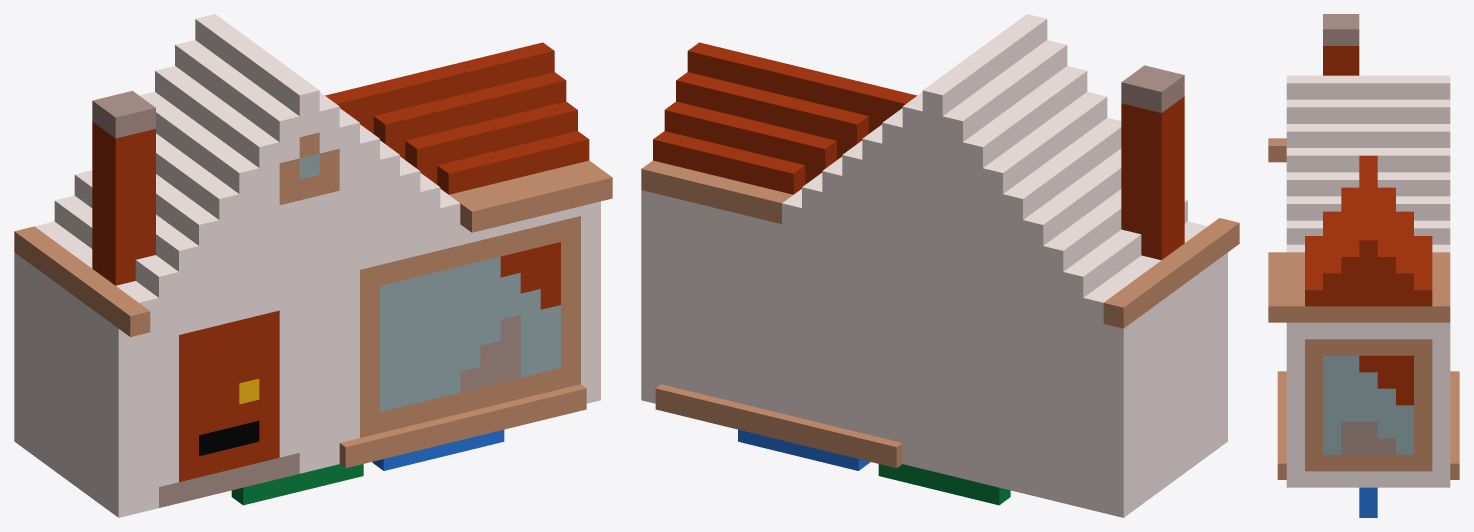
The model's file is house.glb.
3 renders of one model, left to right at view 1: azimuth 30°, elevation 25°; view 2: azimuth 150°, elevation 25°; view 3: azimuth 270°, elevation 25°, orthographic. The views are drawn at different scales.
Parts seen in each view (by area): view 1: base, front, e1, glasses, e1 (1); view 2: base, e1, front, glasses, e1 (1); view 3: base, front, e1, glasses, e1 (1).
Part boxes in pixels (left/top/right/bottom): base: left=14, top=14, right=600, bottom=517; front: left=14, top=160, right=612, bottom=336; e1: left=339, top=384, right=586, bottom=468; glasses: left=231, top=429, right=504, bottom=505; e1 (1): left=342, top=390, right=565, bottom=467; base: left=641, top=14, right=1227, bottom=517; e1: left=655, top=384, right=902, bottom=468; front: left=662, top=169, right=1239, bottom=328; glasses: left=738, top=429, right=1010, bottom=505; e1 (1): left=676, top=390, right=896, bottom=467; base: left=1286, top=14, right=1450, bottom=487; front: left=1268, top=138, right=1450, bottom=322; e1: left=1277, top=371, right=1459, bottom=479; glasses: left=1359, top=487, right=1377, bottom=517; e1 (1): left=1277, top=371, right=1459, bottom=442.
Bounding box in the file's own units: 24 × 21 × 10.5.
15 materials, 15 textured.
